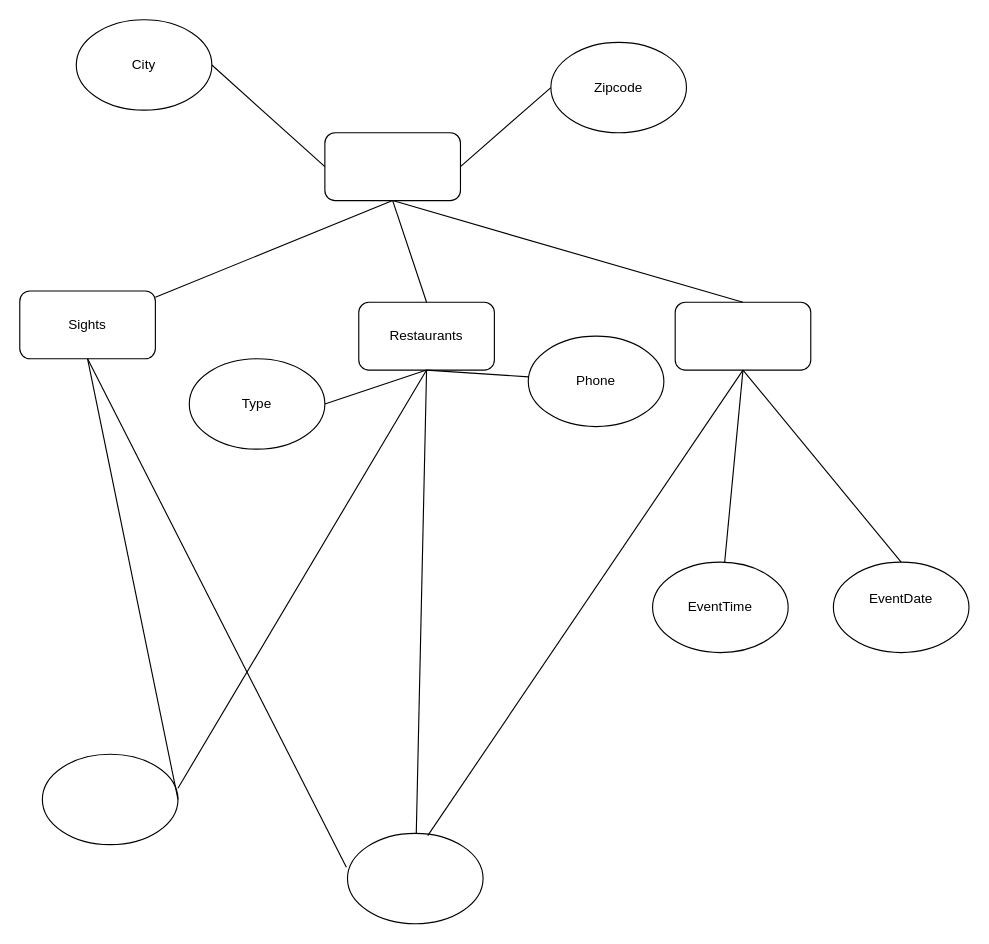
Some shapes in this 989 by 944 pixel diagram are drawn without their labels. The centre of each missing label's shape, as x and y in pixels:
Address: (109,799)
Events: (742,335)
Image: (414,878)
Location: (392,166)
